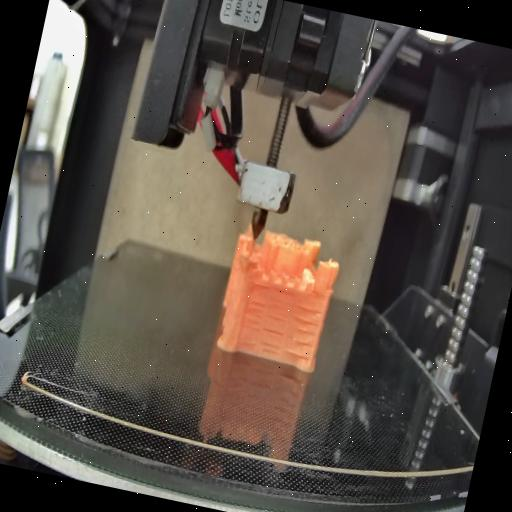cracks: (258, 286, 296, 358), (283, 302, 323, 360), (236, 300, 266, 348), (251, 279, 271, 293)
